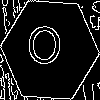O: (25, 25, 64, 74)
